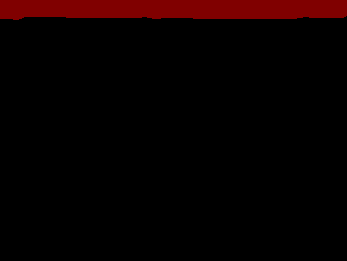Sky: (1, 1, 346, 260)
